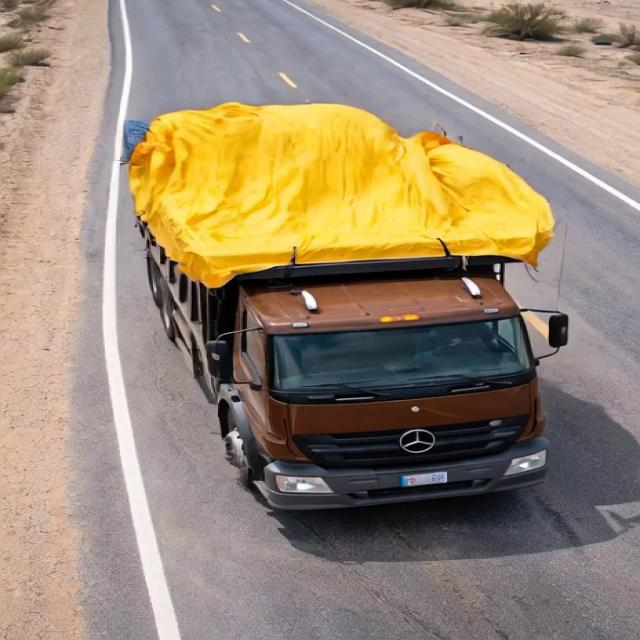trailer: (86, 105, 566, 257)
truck: (49, 103, 582, 502)
